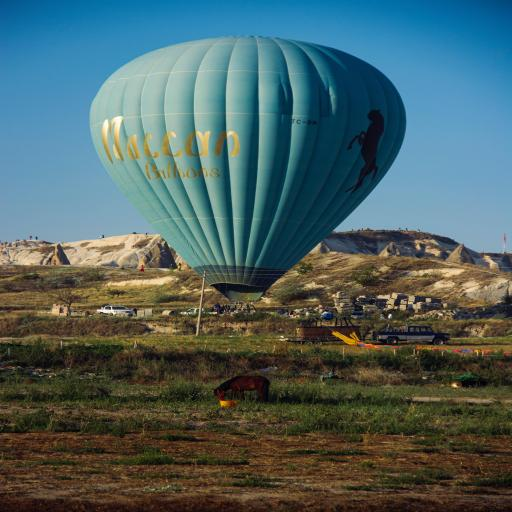hot air ballon: (84, 33, 404, 306)
